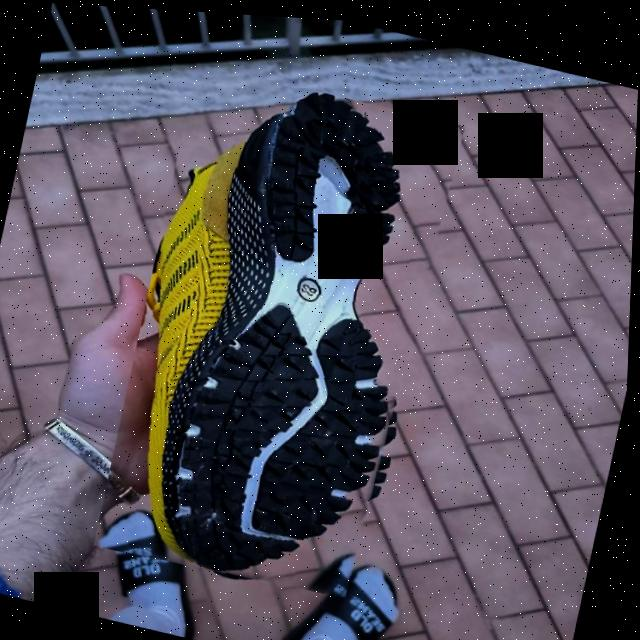shoe: (96, 56, 468, 609)
